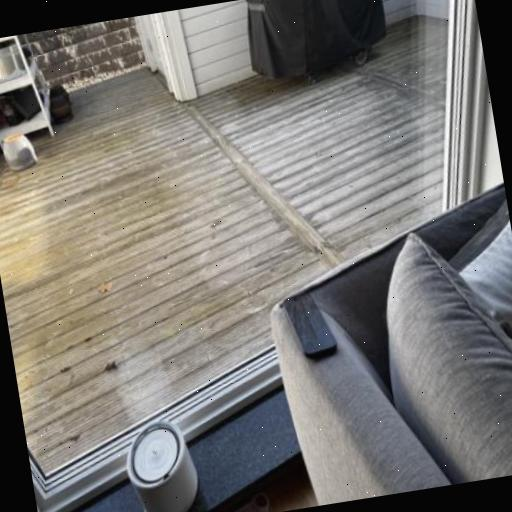phone: (280, 283, 351, 386)
